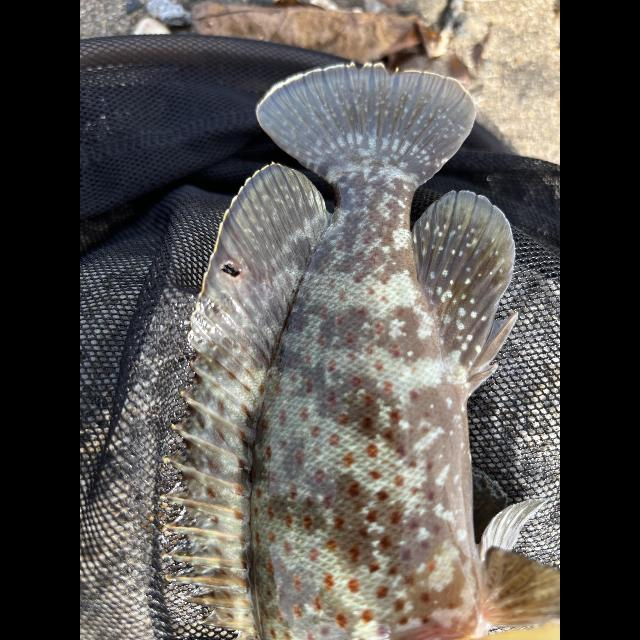Groupers: (149, 65, 515, 640)
